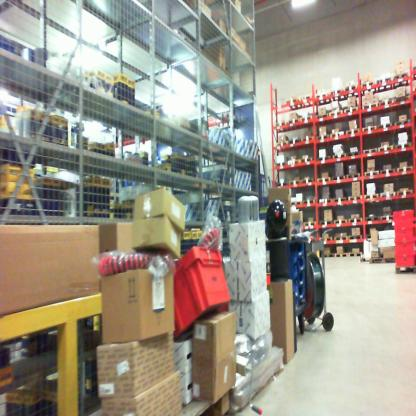pallet: (89, 381, 236, 411), (332, 188, 362, 208), (394, 67, 412, 92), (342, 80, 360, 100), (344, 128, 362, 147), (391, 117, 408, 137), (361, 76, 376, 98), (370, 252, 390, 268), (377, 117, 390, 141), (364, 210, 381, 228), (327, 85, 345, 102), (376, 76, 394, 93), (392, 90, 409, 108), (299, 110, 316, 127), (271, 118, 289, 134), (378, 187, 395, 203), (298, 154, 314, 171), (275, 137, 293, 152), (362, 123, 377, 141), (376, 141, 395, 155), (362, 165, 379, 180), (361, 141, 376, 158), (379, 93, 394, 110), (363, 99, 380, 114), (394, 189, 412, 203), (333, 150, 347, 168), (377, 166, 396, 179), (348, 214, 365, 228), (300, 133, 317, 147), (316, 154, 333, 168), (381, 213, 396, 228), (329, 107, 344, 122), (396, 141, 412, 155), (332, 170, 348, 184), (300, 172, 314, 188), (344, 170, 362, 182), (314, 172, 332, 184), (316, 194, 331, 208), (330, 128, 344, 143), (274, 158, 288, 173), (363, 191, 379, 204), (344, 104, 362, 115), (287, 135, 303, 147), (347, 148, 361, 161), (288, 158, 302, 171), (399, 263, 415, 274), (319, 218, 335, 229), (287, 175, 300, 188), (286, 115, 300, 127), (316, 131, 330, 143), (335, 217, 350, 228), (301, 220, 319, 229), (331, 233, 347, 243), (316, 110, 329, 122), (396, 166, 410, 177), (334, 250, 351, 259), (347, 234, 364, 243), (351, 249, 364, 259), (274, 181, 290, 188), (362, 255, 370, 268), (317, 250, 334, 256), (292, 195, 303, 204), (302, 197, 315, 204), (320, 236, 329, 244)
small_load_carrier: (166, 244, 235, 338), (391, 253, 416, 268), (391, 209, 413, 226), (392, 240, 416, 253), (392, 227, 414, 240)
